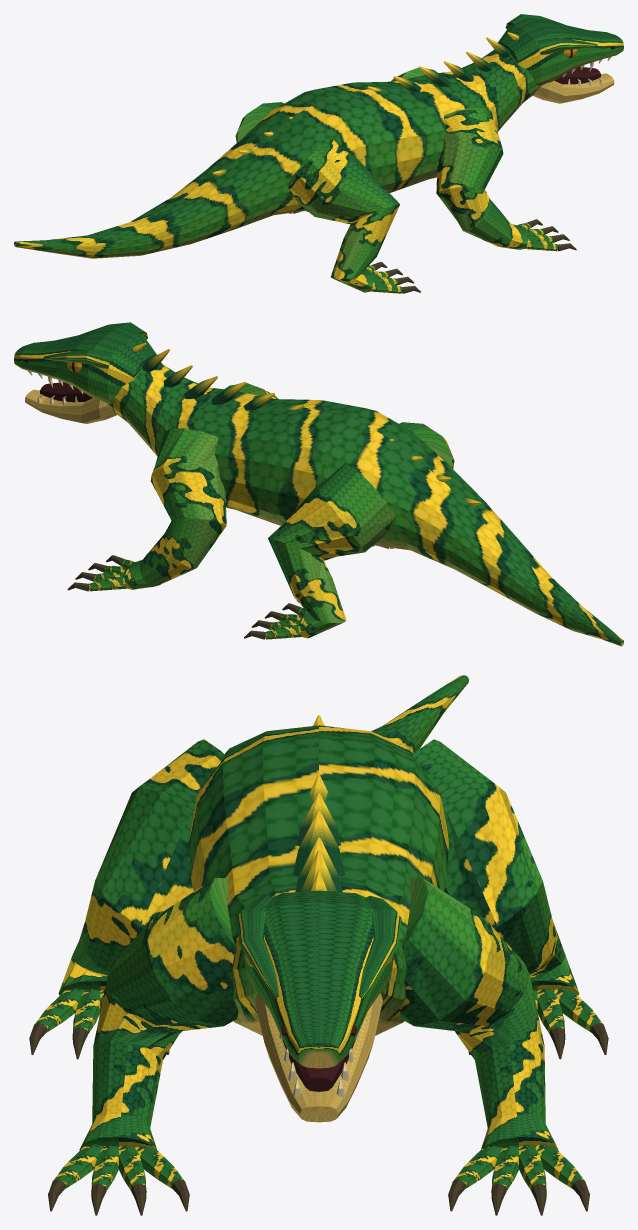
The model's file is lagarto-papagaio-v02.glb.
3 renders of one model, top to bottom at view 1: azimuth 30°, elevation 25°; view 2: azimuth 150°, elevation 25°; view 3: azimuth 270°, elevation 25°, orthographic. The views are drawn at different scales.
Visible parts, largest first — view 1: LagartoPapagaio_v02; view 2: LagartoPapagaio_v02; view 3: LagartoPapagaio_v02.
Part boxes in pixels (x1,y1,x2,y2): LagartoPapagaio_v02: (14,14,623,293); LagartoPapagaio_v02: (14,322,623,646); LagartoPapagaio_v02: (29,675,608,1215).
Size of the model in its own units: 5.63 by 1.61 by 2.49.
1 material, 1 textured.
